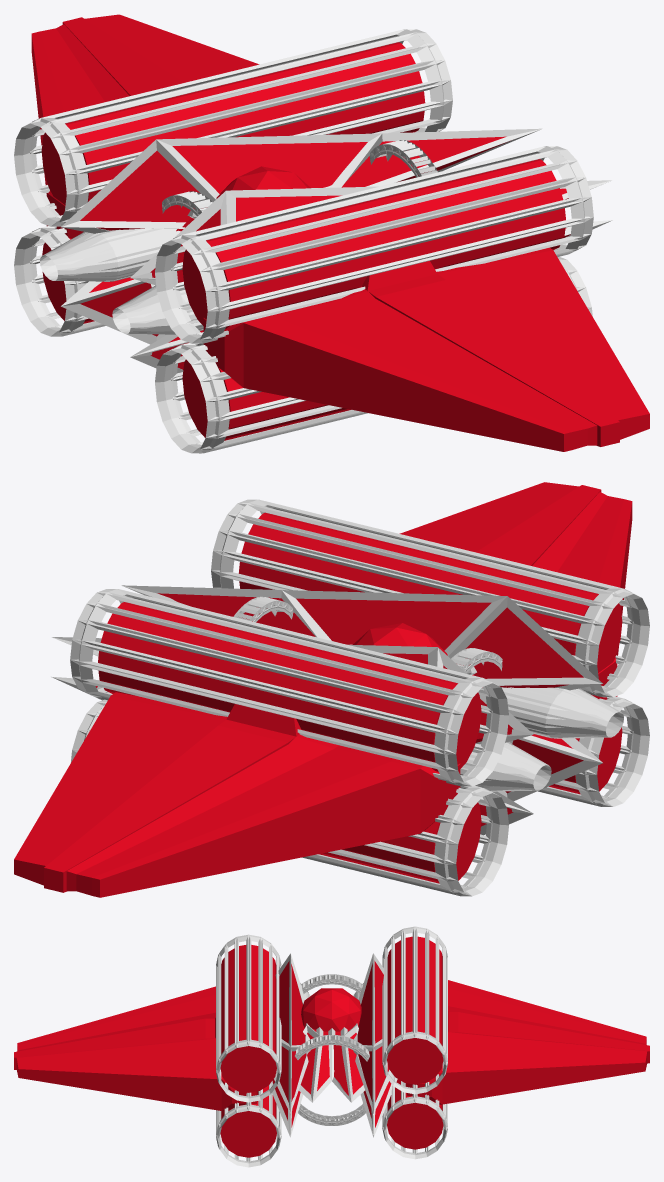
The model's file is doubleSpaceship.fbx.
3 views of the same model, one above another, from view 1: azimuth 30°, elevation 25°; view 2: azimuth 150°, elevation 25°; view 3: azimuth 270°, elevation 25° (orthographic). The views are drawn at different scales.
Visible parts, largest first — view 1: Cube, Cube.005, Cube.004; view 2: Cube.005, Cube, Cube.004; view 3: Cube.005, Cube, Cube.004.
Boxes of the visible parts, x1=… form: Cube: x1=112, y1=146, x2=649, y2=453; Cube.005: x1=14, y1=14, x2=542, y2=344; Cube.004: x1=151, y1=140, x2=437, y2=287; Cube.005: x1=14, y1=589, x2=551, y2=897; Cube: x1=121, y1=482, x2=649, y2=806; Cube.004: x1=233, y1=596, x2=512, y2=743; Cube.005: x1=353, y1=926, x2=649, y2=1159; Cube: x1=14, y1=934, x2=310, y2=1167; Cube.004: x1=295, y1=974, x2=369, y2=1125.
Bounding box in the file's own units: 1409 × 612 × 2663.
